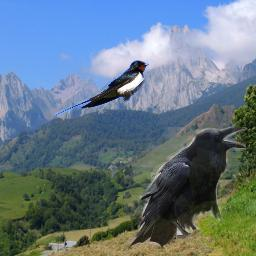Crow: (124, 127, 246, 253)
Swallow: (54, 60, 149, 116)
